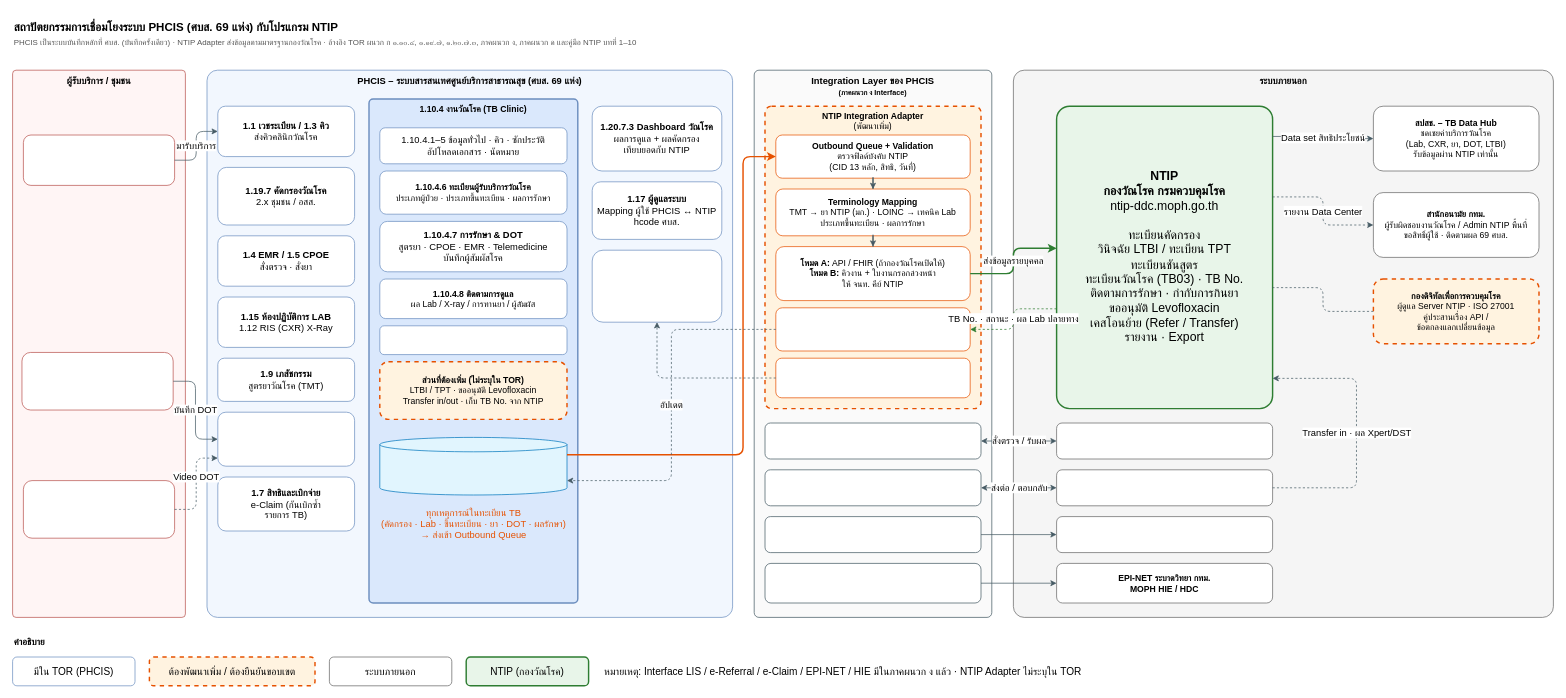
Image size: 1566x698. Some labels were removed from this diagram. The shapes that lost their labels are listed below. From the top down, each one's centre as x and y in pixels, then its label:
At (99,159): "ผู้ป่วยวัณโรค / ผู้สัมผัส / กลุ่มเสี่ยง".
At (656,285): "ภาคผนวก ด Consent / PDPA 16.3 ส่งออกข้อมูลนอกหน่วย 16.5 Log การเข้าถึง".
At (473,340): "1.10.4.9 คัดกรองกลุ่มเสี่ยง".
At (872,329): "Reconciliation รับ TB No. / สถานะ / ผล Lab กลับ แจ้งรายการไม่ตรงกัน".
At (97,381): "อสส. / ทีมเยี่ยมบ้าน ผู้กำกับการกินยา (DOT)".
At (872,377): "Audit Log การส่งออก (ภาคผนวก ด 16.3 / 16.5)".
At (286,438): "1.18 เยี่ยมบ้าน 1.13 Telemedicine".
At (872,440): "LIS Interface (เชื่อม 1.15)".
At (1164,440): "LIS สำนักงานชันสูตรสาธารณสุข สำนักอนามัย AFB · Xpert MTB/RIF · Culture".
At (473,466): "TB Registry (PHCIS) ทะเบียน · DOT · Lab · ผลการรักษา + TB No. (external ID)".
At (872,487): "e-Referral Interface (เชื่อม 1.10.4)".
At (1164,487): "รพ.สังกัด กทม. / MDR Center รับส่งต่อ · ขึ้นทะเบียนดื้อยา · ตอบกลับ".
At (99,509): "Mobile App หมอ กทม. นัดหมาย · Video DOT · ดูผล".
At (872,534): "e-Claim / NHSO Interface (เชื่อม 1.7)".
At (1164,534): "e-Claim / ฐานข้อมูล สปสช. บริการทั่วไปที่ไม่ใช่ชุดสิทธิ TB".
At (872,583): "EPI-NET · Health Link / HIE (FHIR) 43 แฟ้ม / HDC".
